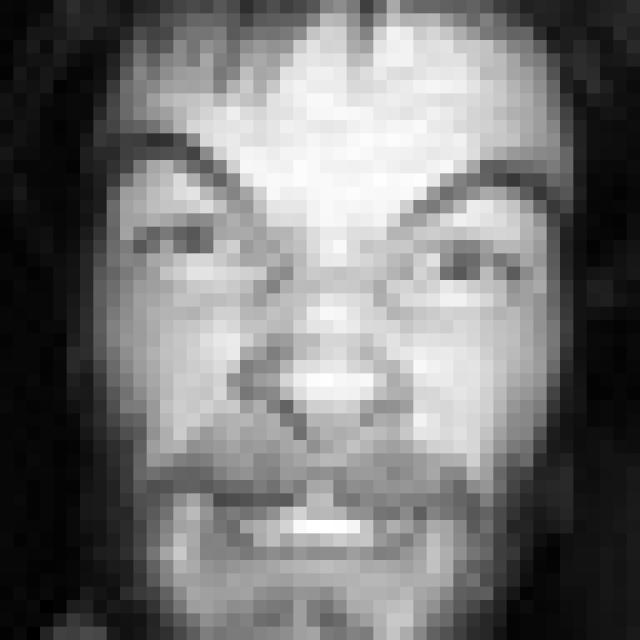angry: (100, 121, 555, 576)
